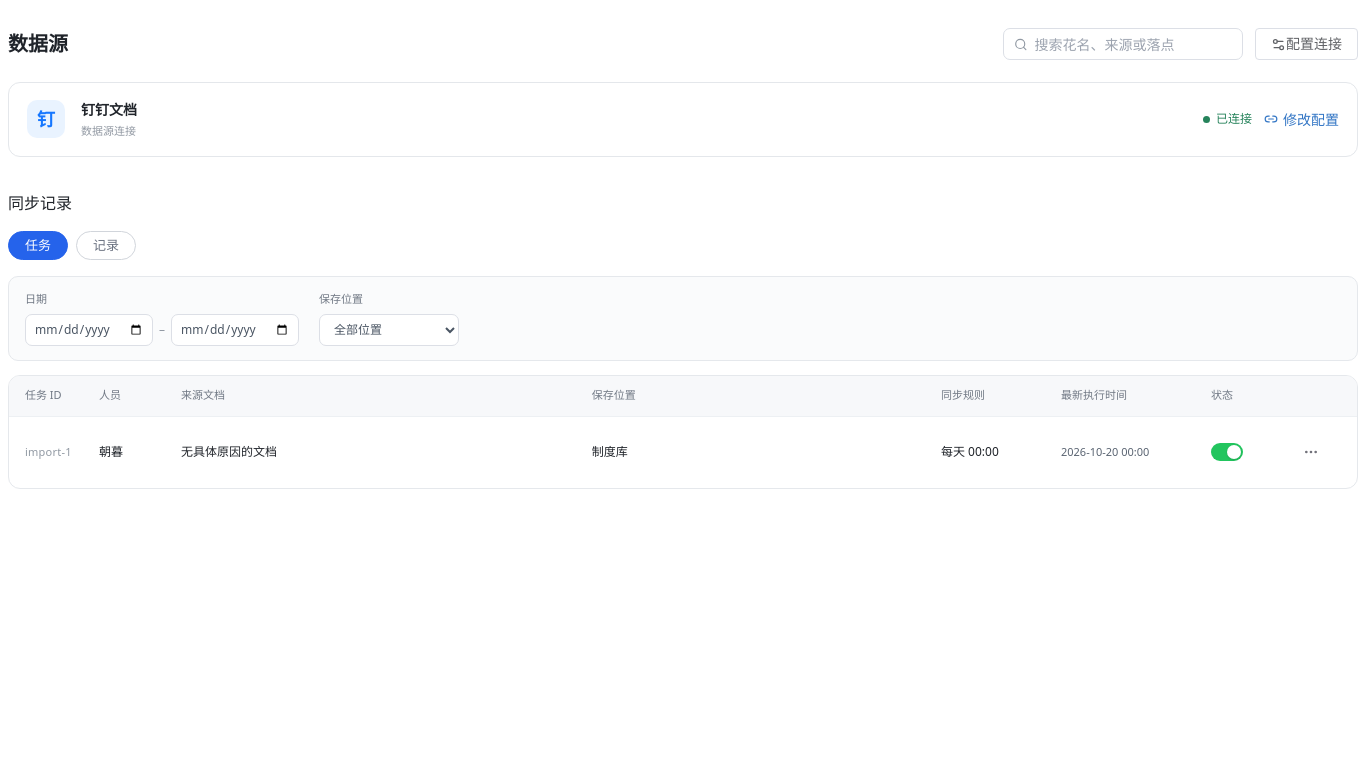
Test: DingTalk per-document sync details › provides a clear fallback when a failed document has no returned reason
The width and height of the screenshot is (1366, 768).
Step 1. Click the button "记录" → (106, 245), box top-left (76, 230), bottom-right (136, 260)
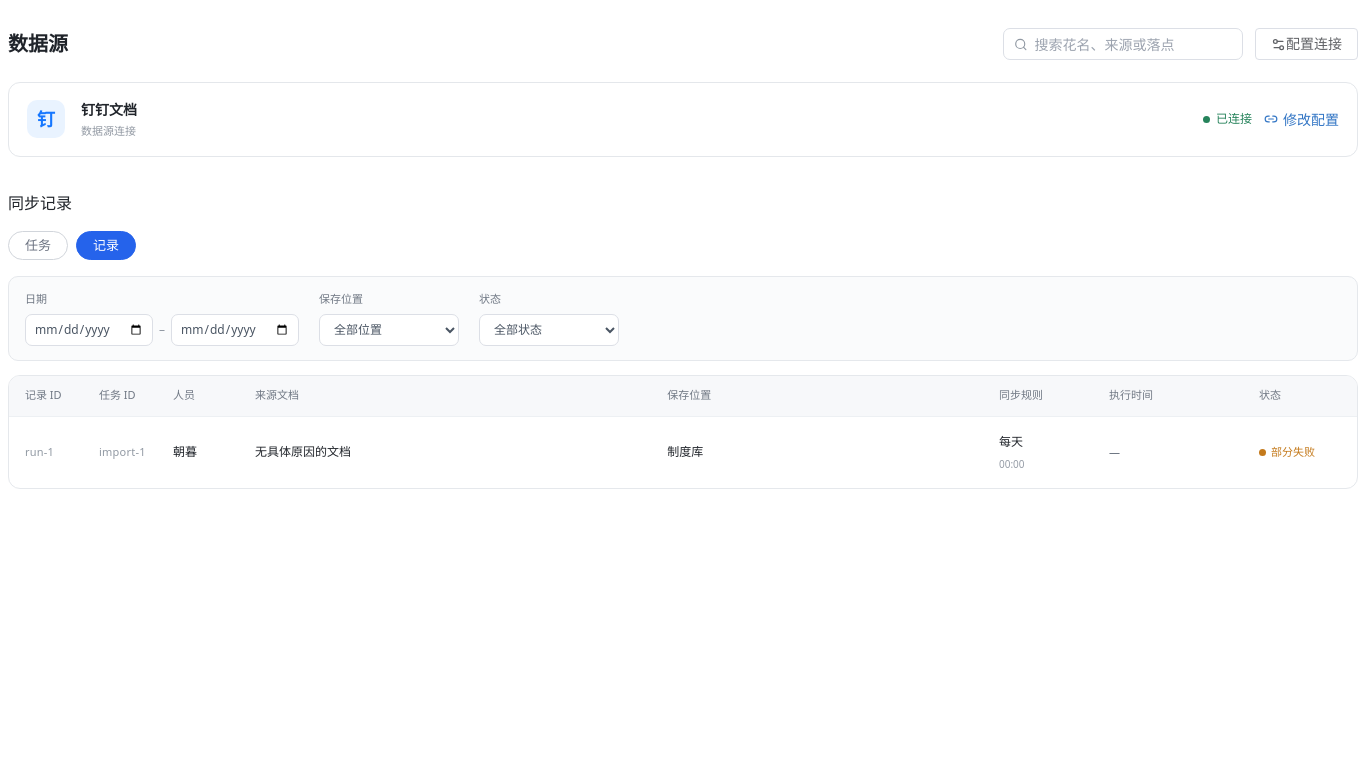
Step 2. Click the button with aria-label "查看同步记录run-1" → (57, 452), box top-left (25, 443), bottom-right (89, 461)
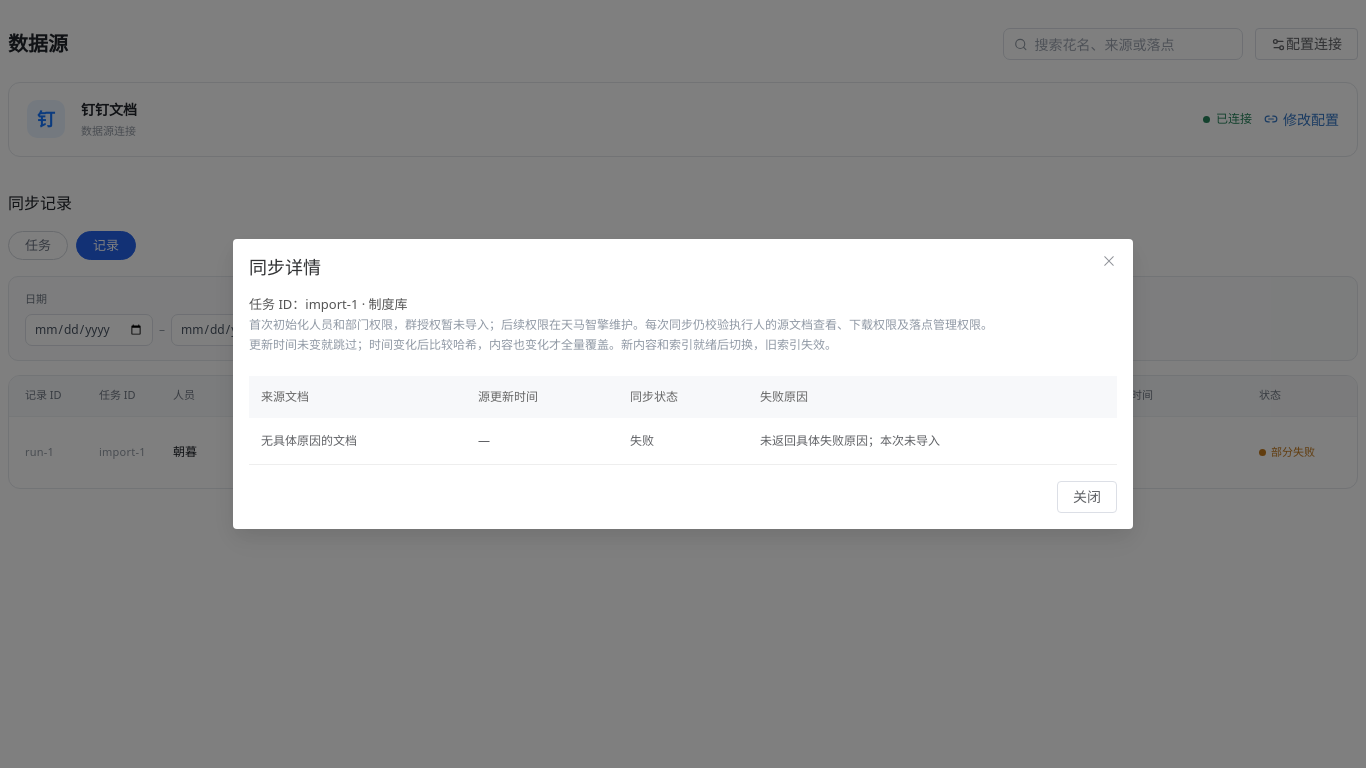
Expected: the cell "未返回具体失败原因；本次未导入" is shown, top-left (748, 418), bottom-right (1117, 464)
